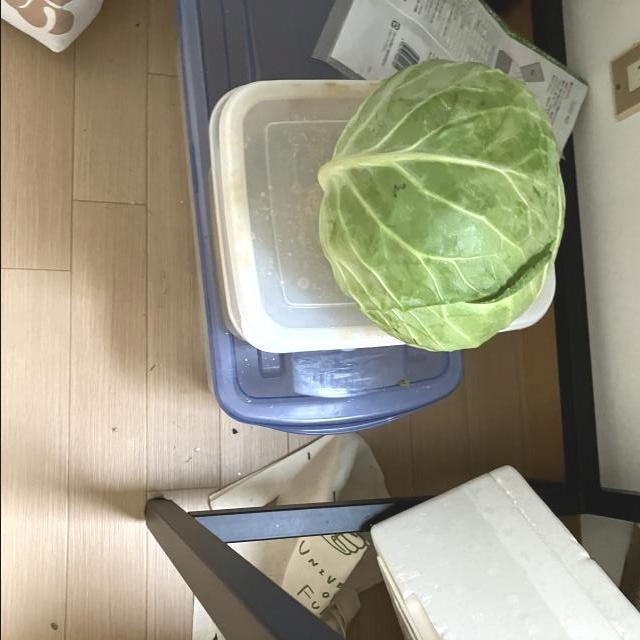cabbage: (310, 54, 565, 356)
